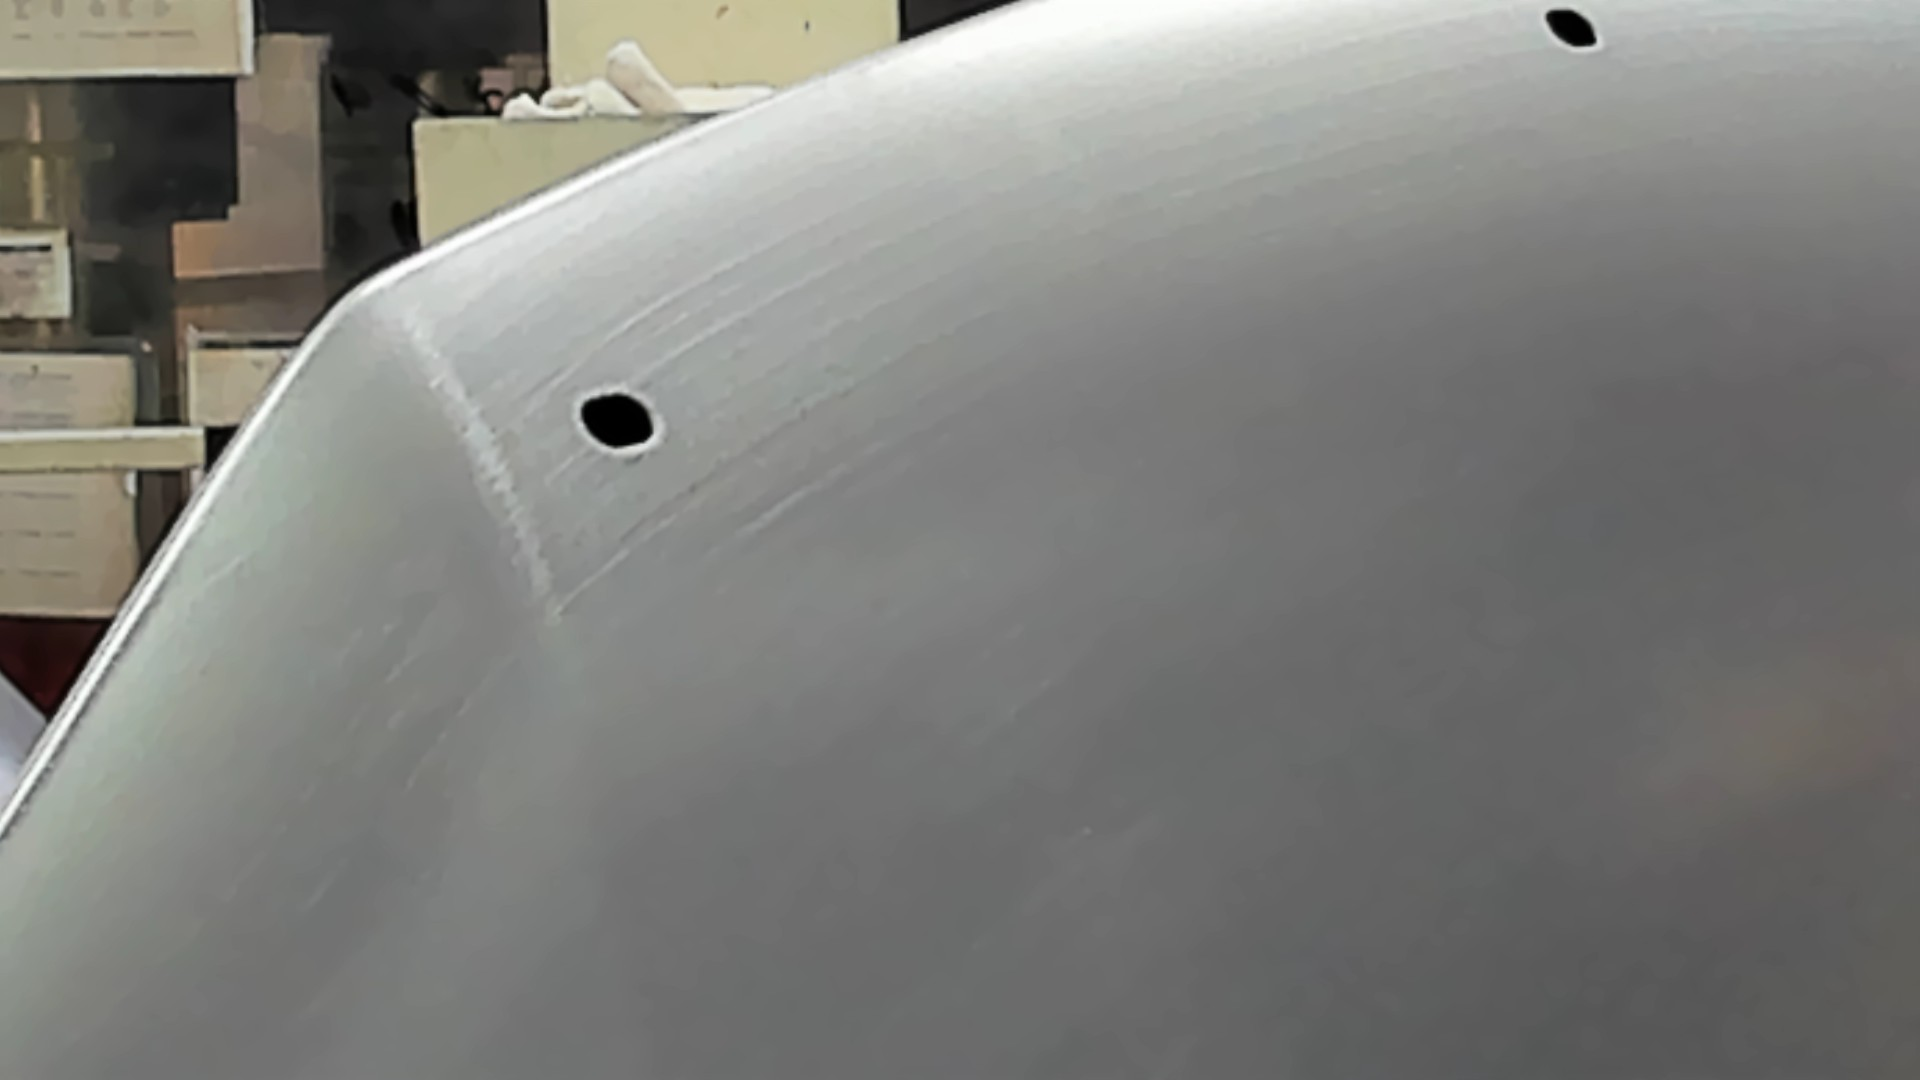amorfo: (574, 385, 665, 455), (1536, 4, 1609, 59)
